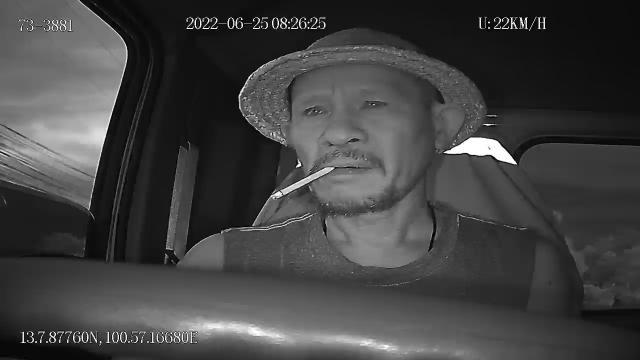SafeDriving: (354, 90, 394, 115), (296, 96, 334, 121)
Smoking: (270, 165, 334, 201)
